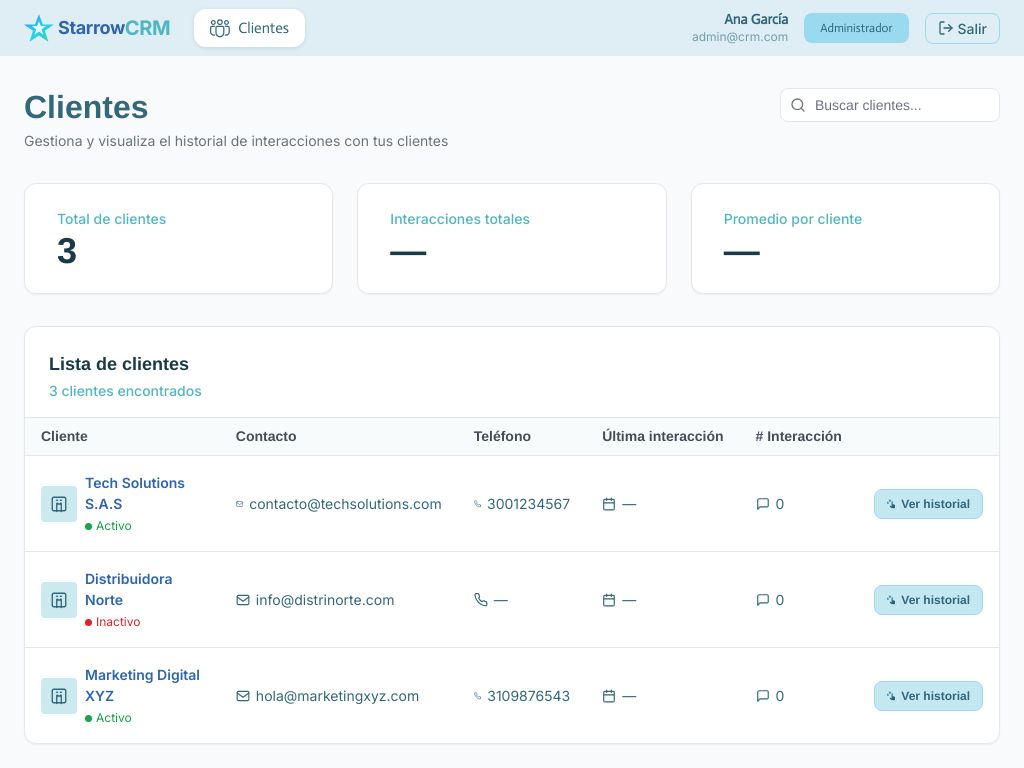
it: ClientesPage — HU-06: Buscador de clientes › filtra clientes por correo electrónico
Type "distrinorte" into the search field with placeholder "Buscar clientes..." at [890, 105], box [780, 88, 1000, 122]
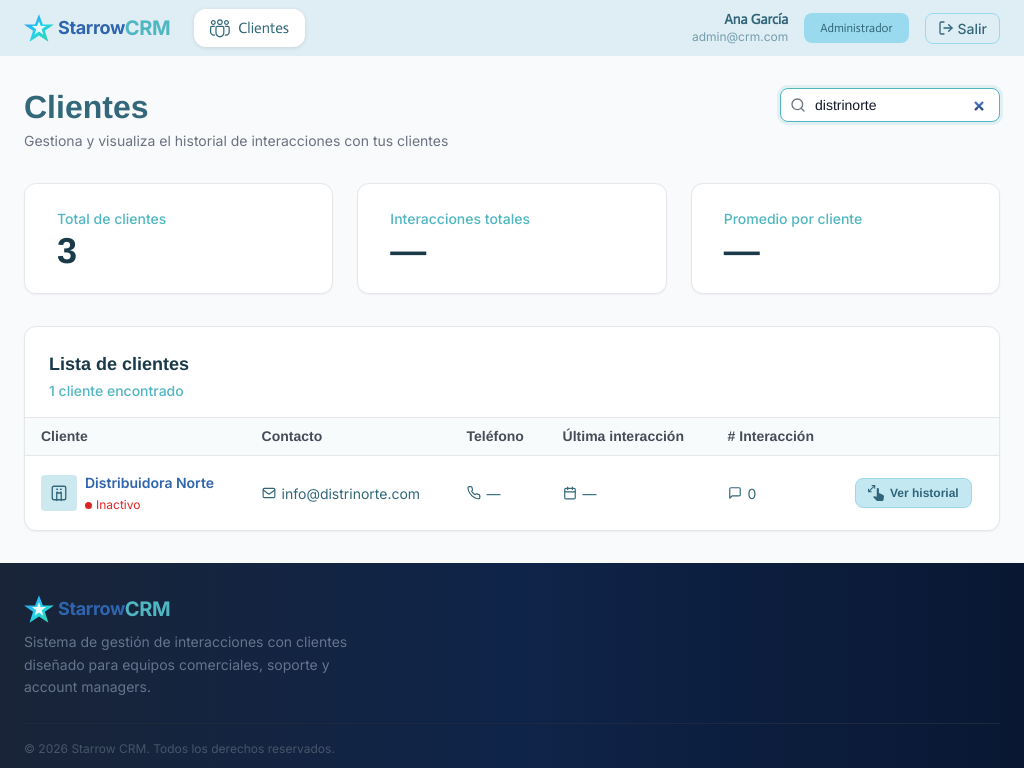
Expected: the text "Distribuidora Norte" is shown, [85, 472, 214, 493]
Result: the text "Tech Solutions S.A.S" is gone
